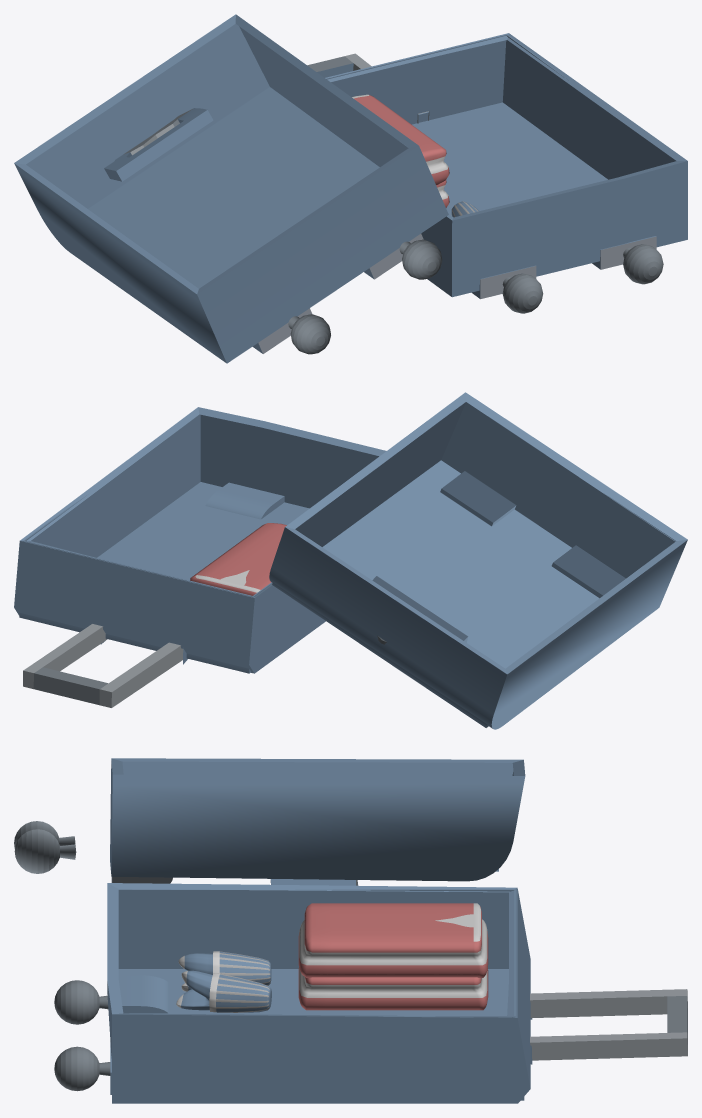
Rendered from suitcase_Opened.fbx.
3 views of the same model, one above another, from view 1: azimuth 30°, elevation 25°; view 2: azimuth 150°, elevation 25°; view 3: azimuth 270°, elevation 25° (orthographic). The views are drawn at different scales.
Visible parts, largest first — view 1: pCube61; view 2: pCube61; view 3: pCube61.
Boxes of the visible parts, x1,y1,x2,y2 form: pCube61: (14,14,687,363); pCube61: (14,392,687,729); pCube61: (14,758,687,1103).
Size of the model in its own units: 6.29 by 2.15 by 6.59.
